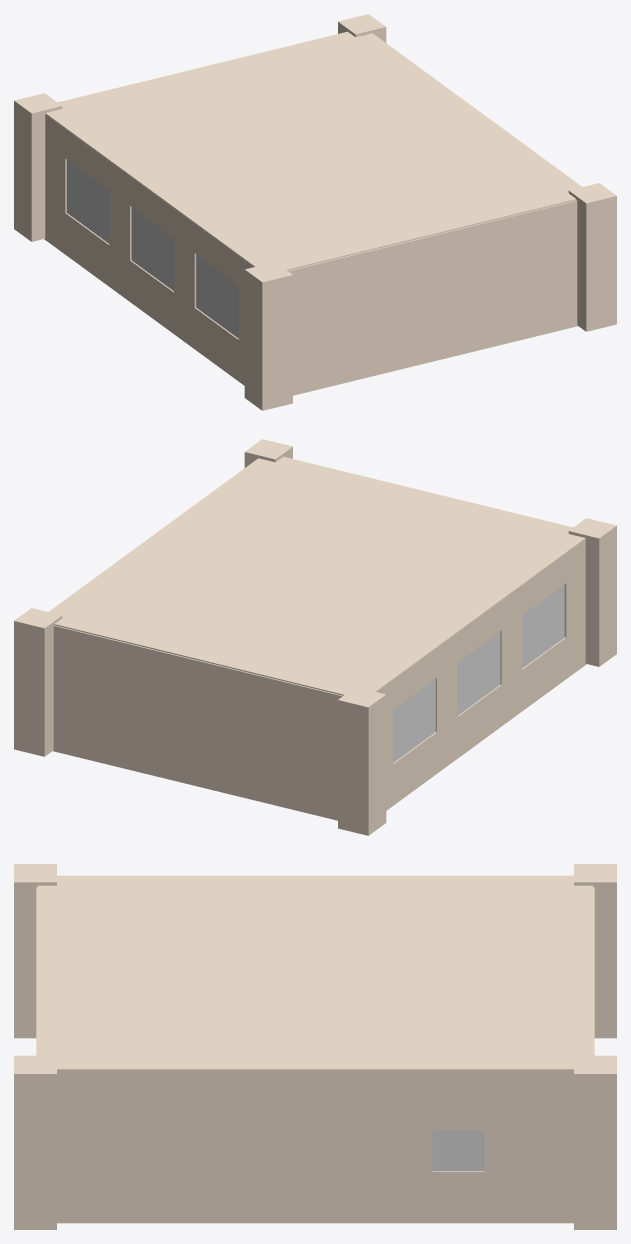
The model's file is kelas.fbx.
3 views of the same model, one above another, from view 1: azimuth 30°, elevation 25°; view 2: azimuth 150°, elevation 25°; view 3: azimuth 270°, elevation 25° (orthographic). The views are drawn at different scales.
Parts seen in each view (by area): view 1: atap, Cube.011, Plane.010, jendela_kaca; view 2: atap, Cube.011, Plane.010, jendela_kaca; view 3: atap, Cube.011, Plane.010, pintu_kaca.
Boxes of the visible parts, x1,y1,x2,y2 form: atap: [45, 31, 581, 270]; Cube.011: [44, 114, 577, 395]; Plane.010: [14, 14, 616, 410]; jendela_kaca: [67, 160, 238, 338]; atap: [49, 456, 585, 695]; Cube.011: [53, 539, 586, 820]; Plane.010: [14, 439, 616, 835]; jendela_kaca: [393, 584, 564, 762]; atap: [38, 875, 592, 1070]; Cube.011: [36, 887, 594, 1223]; Plane.010: [14, 864, 616, 1229]; pintu_kaca: [432, 1130, 484, 1170].
Bounding box in the file's own units: 895 × 313 × 1086.
